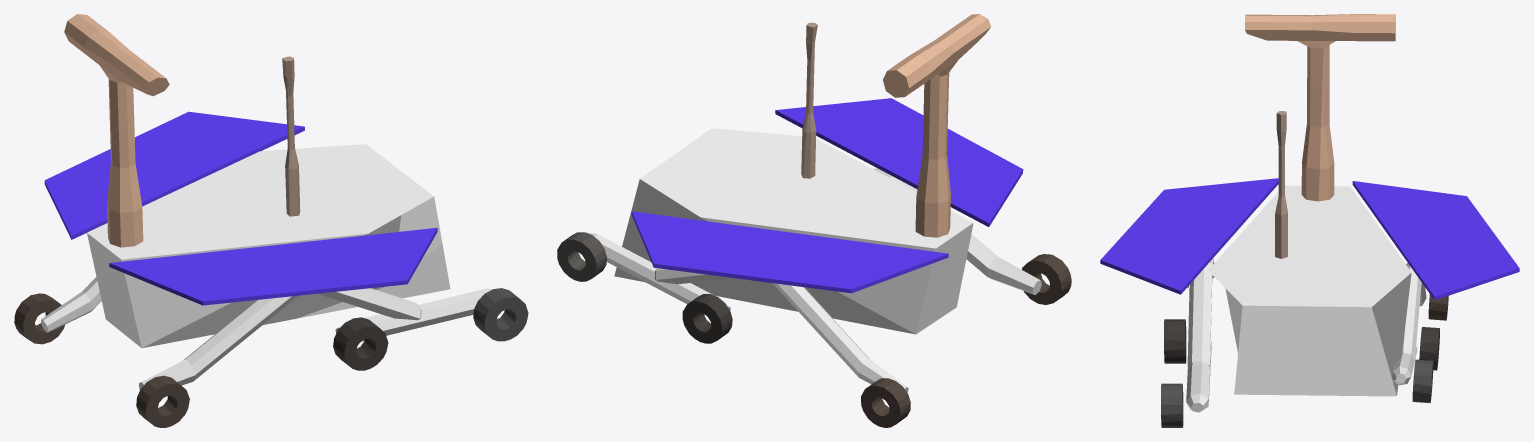
Rendered from rover.glb.
The picture shows the model from 3 angles, left to right: view 1: azimuth 30°, elevation 25°; view 2: azimuth 150°, elevation 25°; view 3: azimuth 270°, elevation 25°; orthographic projection. The views are drawn at different scales.
Parts seen in each view (by area): view 1: idenifier-body, left-solar-panel, left-solar-panel.001, neck, sus_top_r.001, middle-wheel-r.001, rear-wheel-r.001, col_sus_bottom, front-wheel-r.001, antenna, front-wheel-r, sus_top_r; view 2: idenifier-body, left-solar-panel.001, left-solar-panel, neck, sus_top_r, col_sus_bottom-r, sus_top_r.001, middle-wheel-r, rear-wheel-r, front-wheel-r, antenna, front-wheel-r.001; view 3: idenifier-body, left-solar-panel, left-solar-panel.001, neck, sus_top_r.001, antenna, sus_top_r, col_sus_bottom, middle-wheel-r.001, rear-wheel-r.001, rear-wheel-r, middle-wheel-r (+2 smaller).
Part boxes in pixels (bbox=[...]): idenifier-body: bbox=[87, 144, 450, 348]; left-solar-panel: bbox=[109, 227, 437, 305]; left-solar-panel.001: bbox=[44, 111, 304, 239]; neck: bbox=[64, 14, 169, 247]; sus_top_r.001: bbox=[139, 288, 422, 389]; middle-wheel-r.001: bbox=[333, 317, 388, 370]; rear-wheel-r.001: bbox=[473, 288, 528, 341]; col_sus_bottom: bbox=[335, 288, 492, 341]; front-wheel-r.001: bbox=[136, 375, 189, 427]; antenna: bbox=[282, 56, 300, 216]; front-wheel-r: bbox=[14, 293, 64, 344]; sus_top_r: bbox=[41, 277, 101, 332]; idenifier-body: bbox=[614, 128, 973, 334]; left-solar-panel.001: bbox=[631, 211, 948, 293]; left-solar-panel: bbox=[775, 98, 1023, 226]; neck: bbox=[883, 14, 991, 237]; sus_top_r: bbox=[654, 268, 908, 392]; col_sus_bottom-r: bbox=[587, 232, 730, 310]; sus_top_r.001: bbox=[874, 168, 1041, 294]; middle-wheel-r: bbox=[682, 294, 732, 343]; rear-wheel-r: bbox=[557, 232, 606, 281]; front-wheel-r: bbox=[861, 378, 910, 427]; antenna: bbox=[801, 22, 817, 178]; front-wheel-r.001: bbox=[1022, 254, 1071, 304]; idenifier-body: bbox=[1208, 185, 1411, 396]; left-solar-panel: bbox=[1100, 178, 1278, 294]; left-solar-panel.001: bbox=[1352, 181, 1519, 300]; neck: bbox=[1245, 14, 1395, 201]; sus_top_r.001: bbox=[1187, 258, 1214, 368]; antenna: bbox=[1275, 111, 1287, 258]; sus_top_r: bbox=[1402, 263, 1426, 359]; col_sus_bottom: bbox=[1186, 339, 1211, 412]; middle-wheel-r.001: bbox=[1164, 319, 1186, 363]; rear-wheel-r.001: bbox=[1161, 383, 1183, 427]; rear-wheel-r: bbox=[1412, 359, 1433, 403]; middle-wheel-r: bbox=[1419, 327, 1439, 370].
Size of the model in its own units: 4.93 by 4.2 by 5.15.
